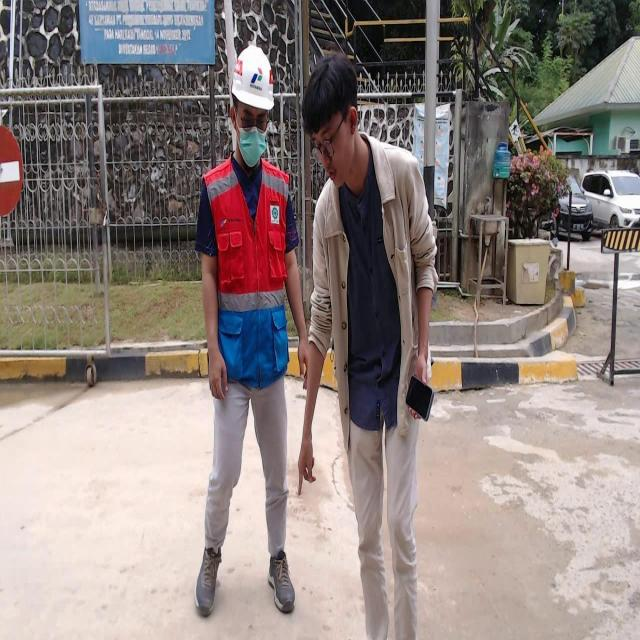hat: (226, 46, 279, 116)
